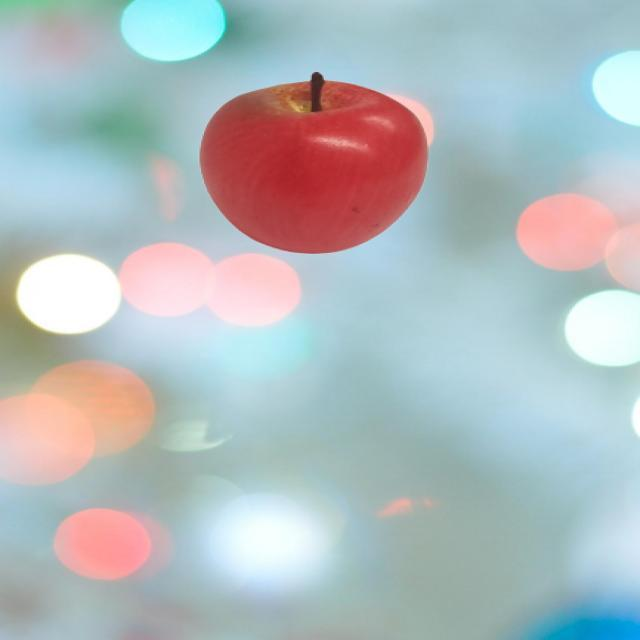apple: (202, 69, 430, 254)
